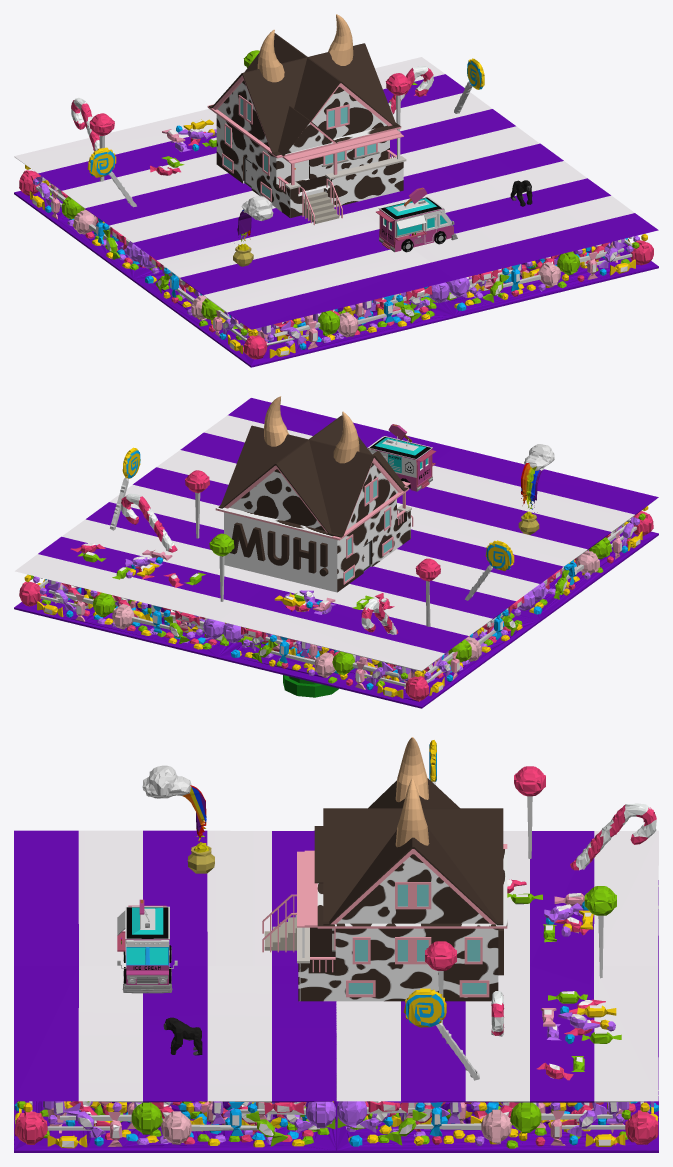
3 views of the same model, one above another, from view 1: azimuth 30°, elevation 25°; view 2: azimuth 150°, elevation 25°; view 3: azimuth 270°, elevation 25° (orthographic). The views are drawn at different scales.
Parts seen in each view (by area): view 1: TERRAIN_CANDY, Cube.1242, VEHICLES_ICE_CREAM_TRUCK, OBJRANDOM_RAINBOW; view 2: TERRAIN_CANDY, Cube.1242, VEHICLES_ICE_CREAM_TRUCK, OBJRANDOM_RAINBOW, UNDERGROUND_PIPES; view 3: TERRAIN_CANDY, Cube.1242, VEHICLES_ICE_CREAM_TRUCK, OBJRANDOM_RAINBOW, ANIMAL_GORILA.
Part boxes in pixels (left/top/right/bottom): TERRAIN_CANDY: left=14, top=50, right=658, bottom=367; Cube.1242: left=207, top=14, right=406, bottom=225; VEHICLES_ICE_CREAM_TRUCK: left=376, top=187, right=457, bottom=252; OBJRANDOM_RAINBOW: left=233, top=196, right=273, bottom=266; TERRAIN_CANDY: left=14, top=398, right=658, bottom=708; Cube.1242: left=215, top=396, right=413, bottom=592; VEHICLES_ICE_CREAM_TRUCK: left=367, top=424, right=436, bottom=491; OBJRANDOM_RAINBOW: left=518, top=444, right=554, bottom=534; UNDERGROUND_PIPES: left=283, top=675, right=338, bottom=697; TERRAIN_CANDY: left=14, top=740, right=658, bottom=1152; Cube.1242: left=262, top=737, right=507, bottom=1001; VEHICLES_ICE_CREAM_TRUCK: left=117, top=899, right=177, bottom=993; OBJRANDOM_RAINBOW: left=142, top=765, right=214, bottom=873; ANIMAL_GORILA: left=163, top=1017, right=202, bottom=1055.
Bounding box in the file's own units: 4059 × 2427 × 4000.
41 materials, 2 textured.
